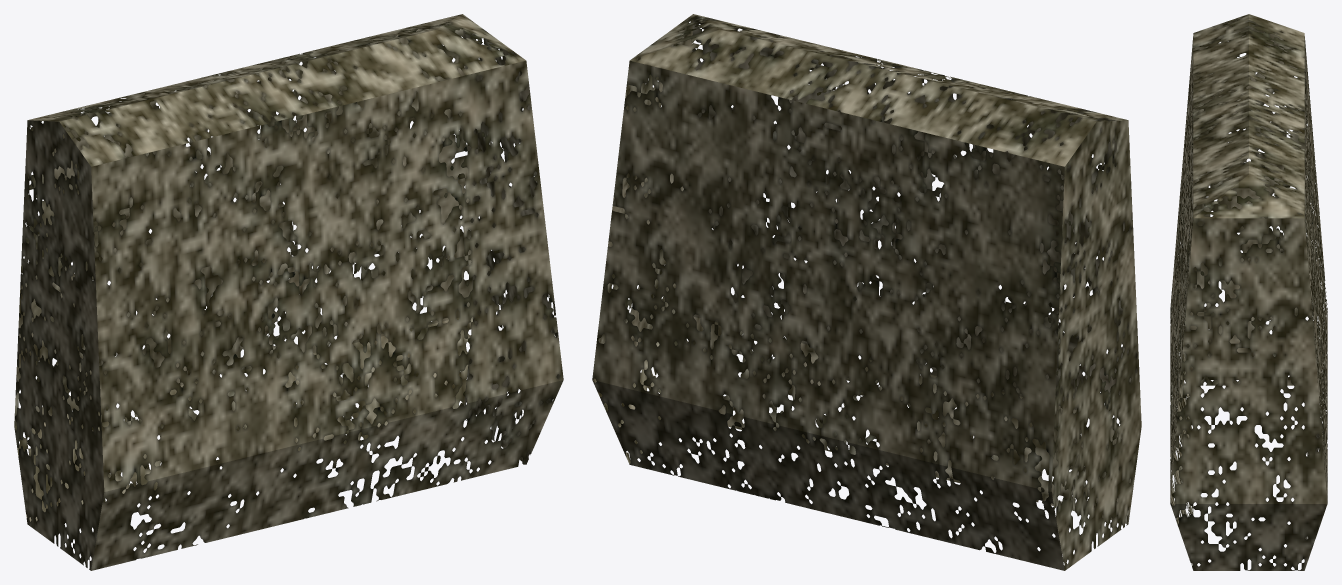
File: bush_tall_open_right_dead.fbx
3 renders of one model, left to right at view 1: azimuth 30°, elevation 25°; view 2: azimuth 150°, elevation 25°; view 3: azimuth 270°, elevation 25°, orthographic. The views are drawn at different scales.
Visible parts, largest first — view 1: bush_tall_open_right_dead; view 2: bush_tall_open_right_dead; view 3: bush_tall_open_right_dead.
Part boxes in pixels (x1,y1,x2,y2): bush_tall_open_right_dead: [14, 14, 563, 570]; bush_tall_open_right_dead: [592, 14, 1141, 570]; bush_tall_open_right_dead: [1170, 14, 1327, 570].
Bounding box in the file's own units: 212 × 188 × 71.91.
Materials: 1 (1 with a texture image).
